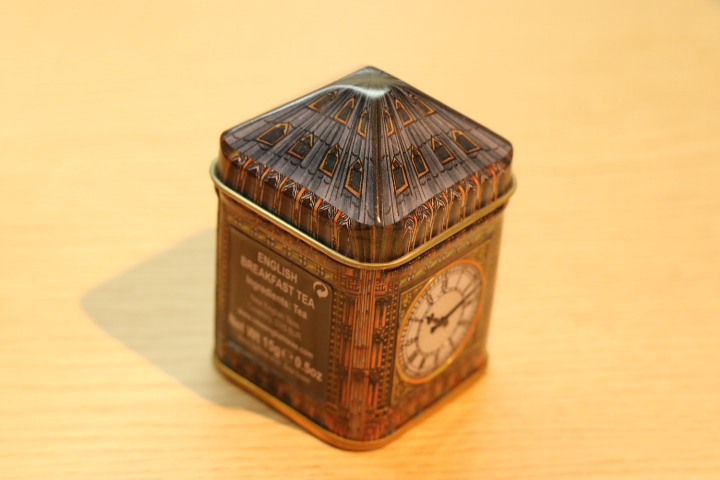Big Ben: (185, 43, 528, 462)
